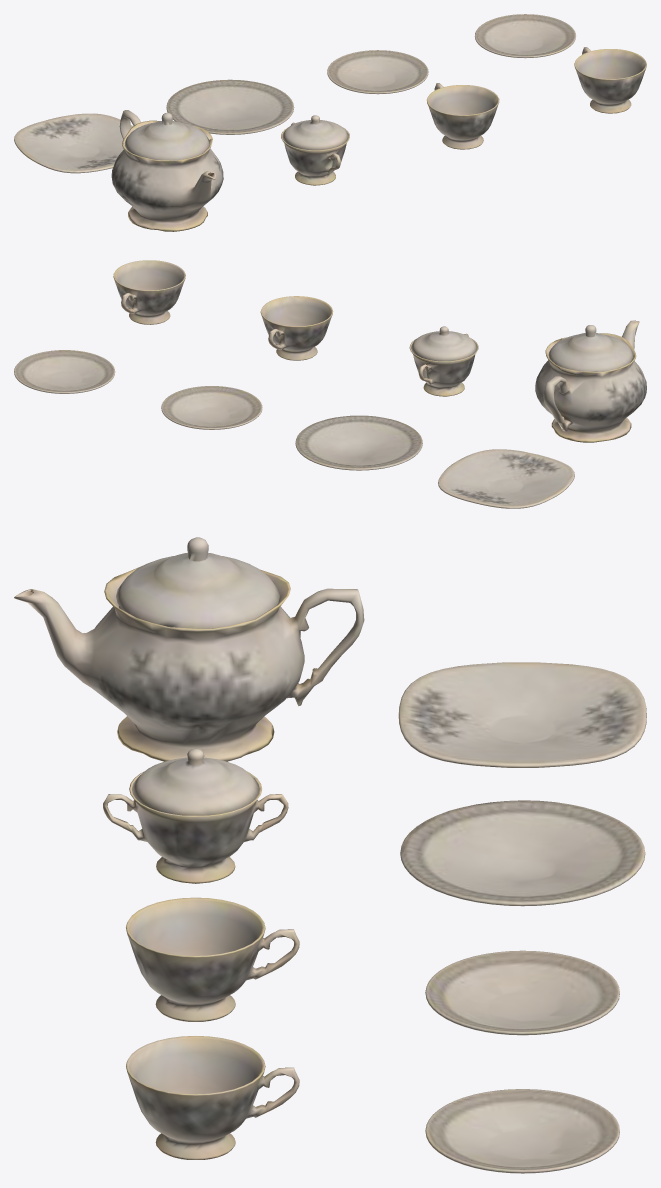
File: ph_teaset.glb
3 renders of one model, top to bottom at view 1: azimuth 30°, elevation 25°; view 2: azimuth 150°, elevation 25°; view 3: azimuth 270°, elevation 25°, orthographic. The views are drawn at different scales.
Visible parts, largest first — view 1: tea_set_01_teapot_01, tea_set_01_plate_large_circular_03, tea_set_01_plate_large_square_01, tea_set_01_cup_small_01, tea_set_01_saucer_circular_04, tea_set_01_saucer_circular_03, tea_set_01_cup_small_02, tea_set_01_teapot_01_lid, tea_set_01_sugar_cup_01, tea_set_01_sugar_cup_01_lid; view 2: tea_set_01_teapot_01, tea_set_01_plate_large_square_01, tea_set_01_plate_large_circular_03, tea_set_01_cup_small_02, tea_set_01_cup_small_01, tea_set_01_saucer_circular_04, tea_set_01_saucer_circular_03, tea_set_01_teapot_01_lid, tea_set_01_sugar_cup_01, tea_set_01_sugar_cup_01_lid; view 3: tea_set_01_teapot_01, tea_set_01_plate_large_square_01, tea_set_01_plate_large_circular_03, tea_set_01_cup_small_01, tea_set_01_cup_small_02, tea_set_01_saucer_circular_03, tea_set_01_saucer_circular_04, tea_set_01_teapot_01_lid, tea_set_01_sugar_cup_01, tea_set_01_sugar_cup_01_lid.
Part boxes in pixels (bbox=[...]): tea_set_01_teapot_01: bbox=[111, 110, 223, 231]; tea_set_01_plate_large_circular_03: bbox=[166, 79, 294, 134]; tea_set_01_plate_large_square_01: bbox=[14, 113, 133, 173]; tea_set_01_cup_small_01: bbox=[426, 83, 499, 149]; tea_set_01_saucer_circular_04: bbox=[327, 50, 428, 94]; tea_set_01_saucer_circular_03: bbox=[474, 14, 575, 58]; tea_set_01_cup_small_02: bbox=[574, 47, 646, 113]; tea_set_01_teapot_01_lid: bbox=[125, 112, 209, 160]; tea_set_01_sugar_cup_01: bbox=[281, 122, 349, 185]; tea_set_01_sugar_cup_01_lid: bbox=[282, 115, 348, 150]; tea_set_01_teapot_01: bbox=[535, 320, 646, 442]; tea_set_01_plate_large_square_01: bbox=[438, 449, 574, 508]; tea_set_01_plate_large_circular_03: bbox=[295, 415, 422, 470]; tea_set_01_cup_small_02: bbox=[113, 260, 185, 324]; tea_set_01_cup_small_01: bbox=[260, 296, 332, 360]; tea_set_01_saucer_circular_04: bbox=[161, 386, 262, 429]; tea_set_01_saucer_circular_03: bbox=[14, 350, 115, 393]; tea_set_01_teapot_01_lid: bbox=[548, 325, 633, 371]; tea_set_01_sugar_cup_01: bbox=[409, 333, 478, 396]; tea_set_01_sugar_cup_01_lid: bbox=[411, 326, 477, 361]; tea_set_01_teapot_01: bbox=[14, 565, 364, 761]; tea_set_01_plate_large_square_01: bbox=[398, 662, 646, 767]; tea_set_01_plate_large_circular_03: bbox=[400, 800, 645, 906]; tea_set_01_cup_small_01: bbox=[126, 897, 299, 1021]; tea_set_01_cup_small_02: bbox=[126, 1036, 299, 1159]; tea_set_01_saucer_circular_03: bbox=[425, 1089, 619, 1173]; tea_set_01_saucer_circular_04: bbox=[425, 950, 619, 1035]; tea_set_01_teapot_01_lid: bbox=[116, 537, 279, 628]; tea_set_01_sugar_cup_01: bbox=[103, 771, 288, 883]; tea_set_01_sugar_cup_01_lid: bbox=[131, 748, 259, 815].
Size of the model in its own units: 0.9183 by 0.165 by 0.4838.
1 material, 1 textured.
